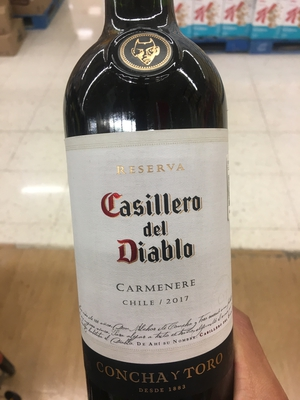casillero del diablo carmenere: (49, 21, 243, 394)
